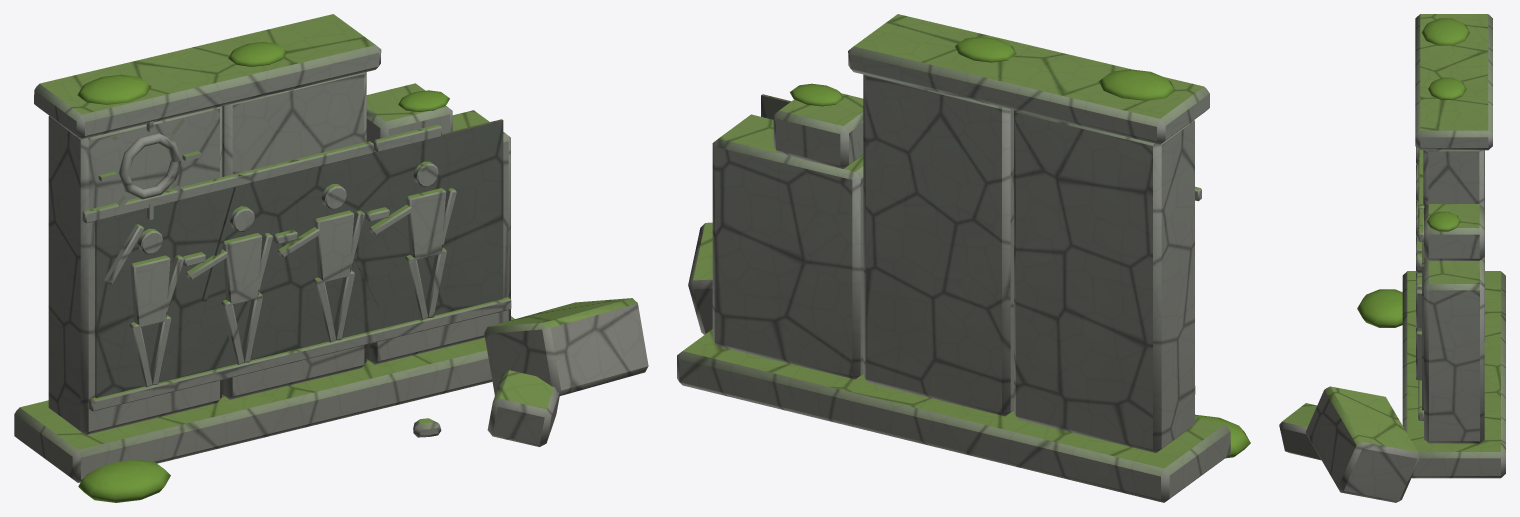
The model's file is carved_relief_wall.glb.
The picture shows the model from 3 angles, left to right: view 1: azimuth 30°, elevation 25°; view 2: azimuth 150°, elevation 25°; view 3: azimuth 270°, elevation 25°; orthographic projection. The views are drawn at different scales.
Parts seen in each view (by area): view 1: carved_relief_wall; view 2: carved_relief_wall; view 3: carved_relief_wall.
Boxes of the visible parts, x1=… form: carved_relief_wall: x1=14, y1=14, x2=648, y2=502; carved_relief_wall: x1=677, y1=14, x2=1250, y2=502; carved_relief_wall: x1=1279, y1=14, x2=1505, y2=502.
Size of the model in its own units: 4.1 by 2.76 by 1.87.
3 materials, 3 textured.
